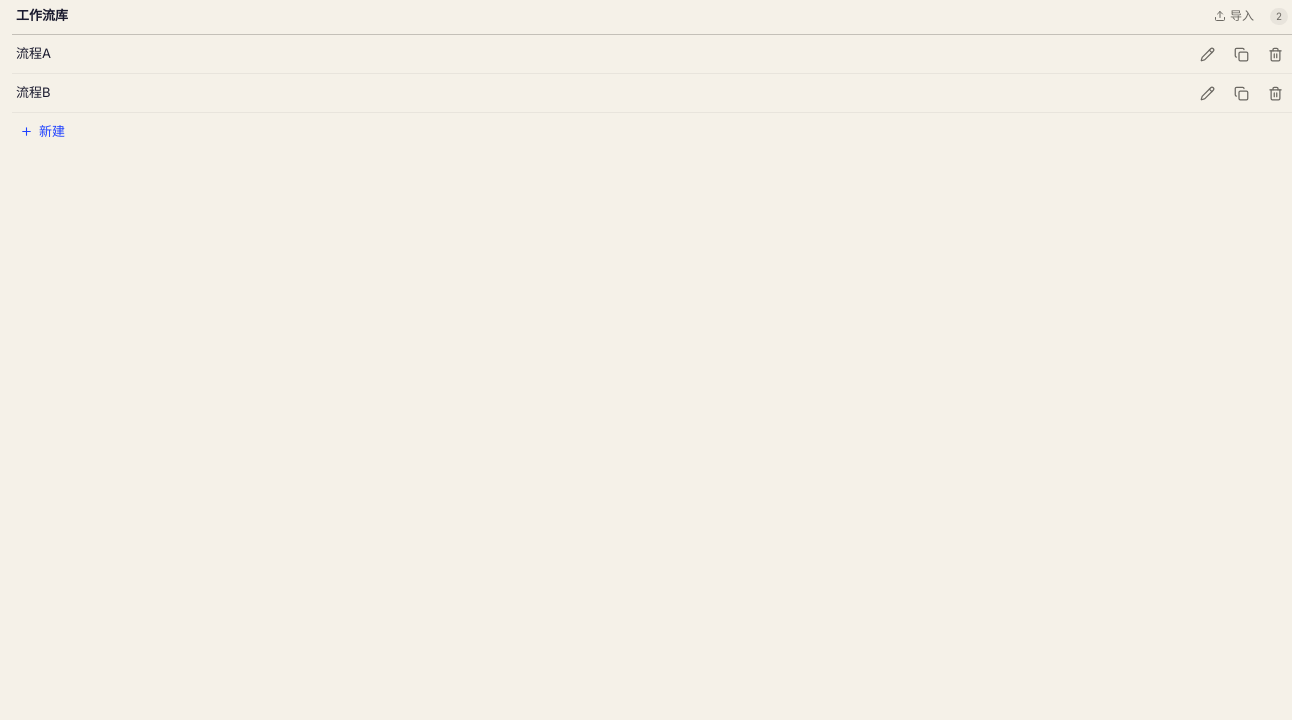
Scenario: WorkflowLibrary 工作流库（应用级） › 点击编辑进入编辑器
expect the text "流程A" is shown: met, box [16,45,51,61]
Click the button named "编辑 流程A" at (1207, 54), box [1194,41,1220,67]
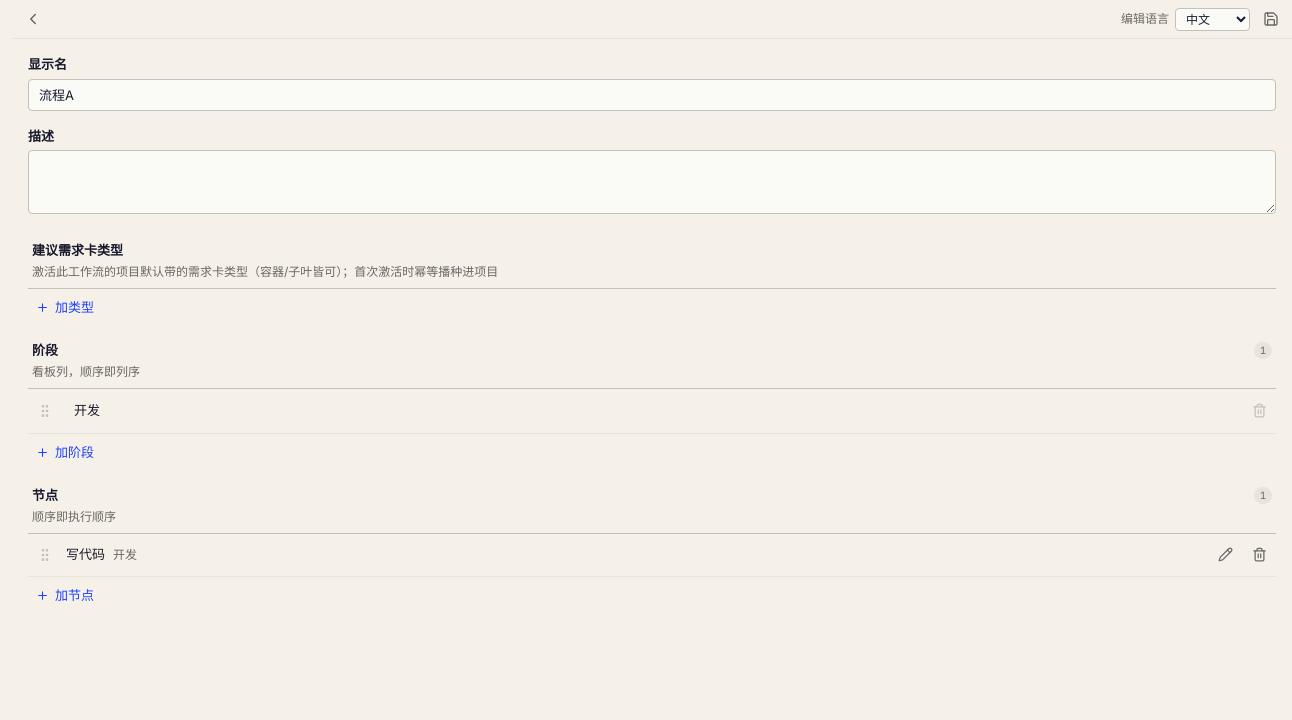
expect the button named "返回列表" is shown: met, box [20,6,46,32]
